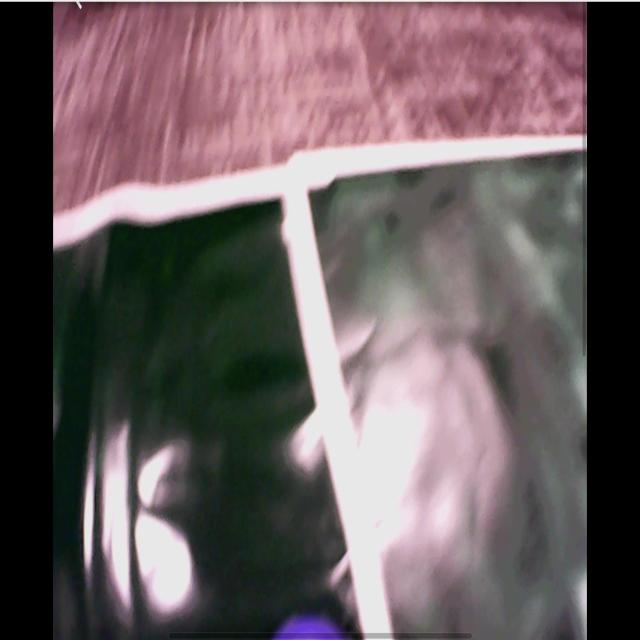ball: (281, 620, 347, 639)
